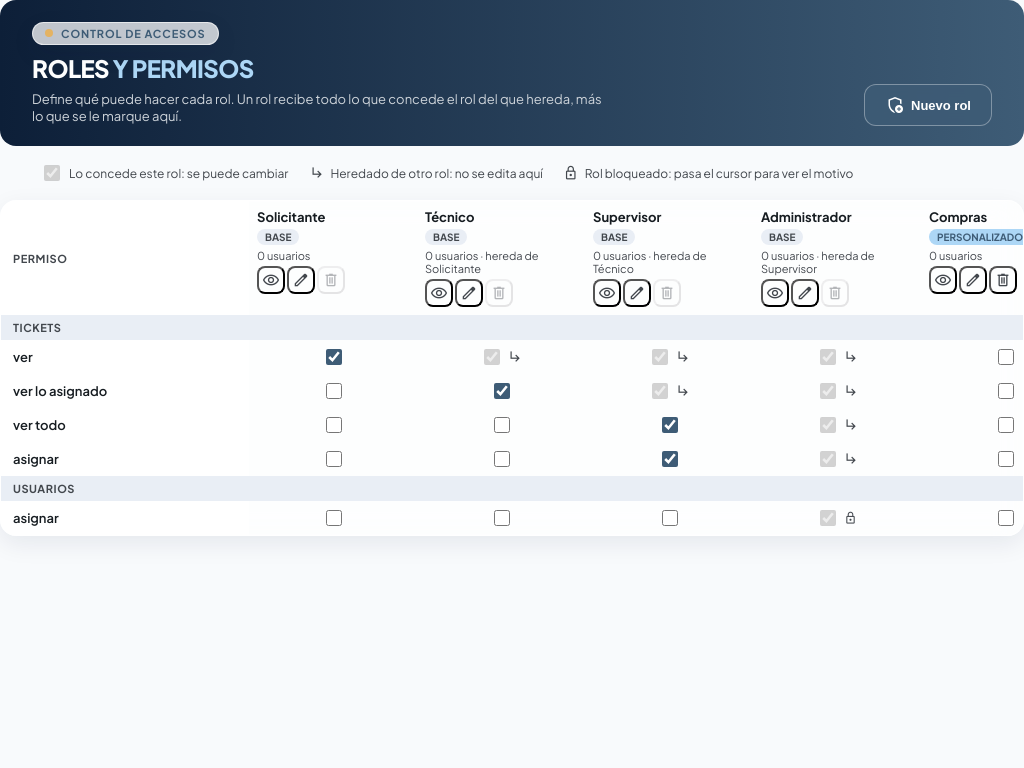
Test: RolesComponent (matrix of permissions by role) › opens a preview of what a role would see
Click the button named "Probar como Técnico" at [439, 293], box top-left (425, 279), bottom-right (453, 307)
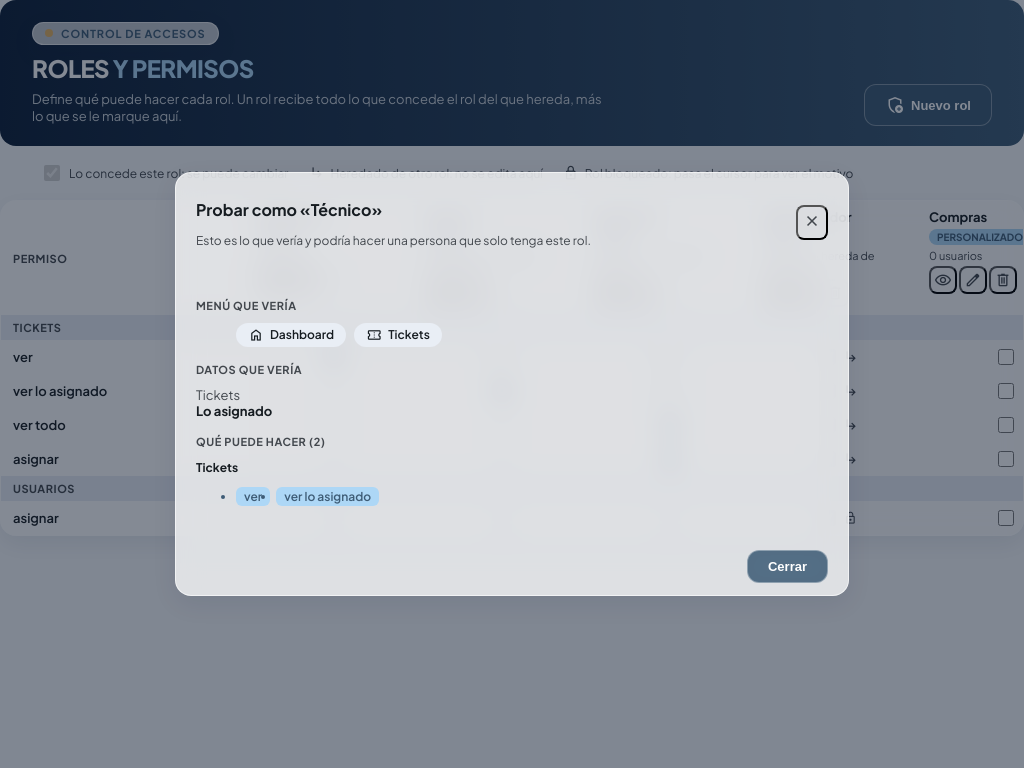
Expected: the dialog shows "Probar como «Técnico»", top-left (196, 198), bottom-right (382, 220)
Expected: the dialog shows "Tickets", top-left (388, 327), bottom-right (430, 342)
Expected: the dialog shows "Lo asignado", top-left (196, 403), bottom-right (272, 419)
